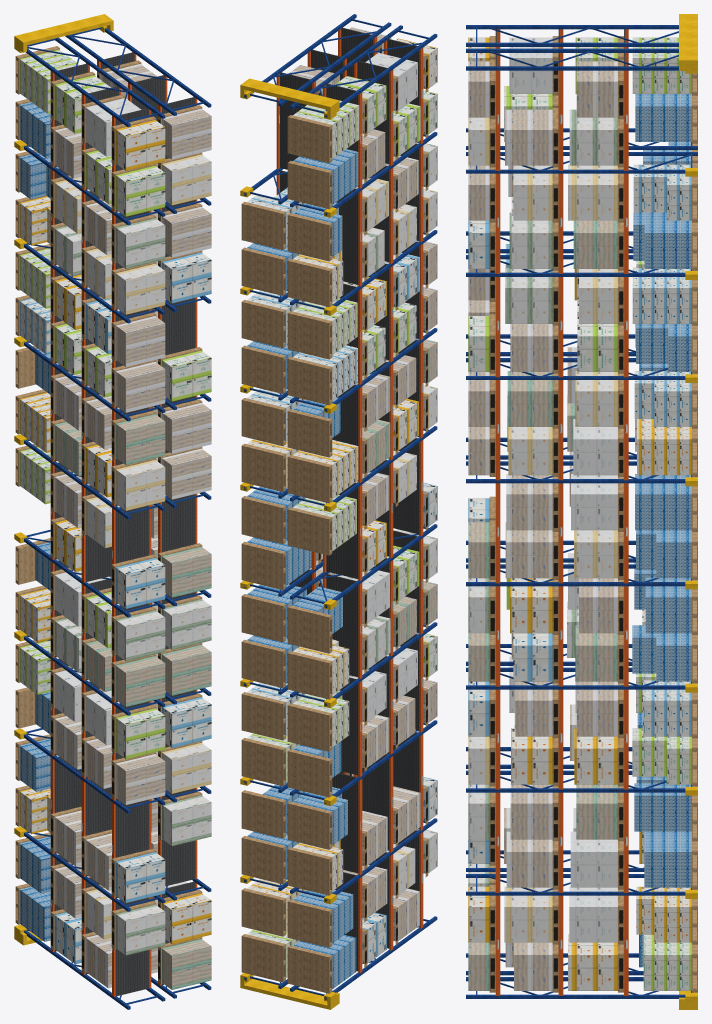
Rendered from racks_e5_s.gltf.
The picture shows the model from 3 angles, left to right: view 1: azimuth 30°, elevation 25°; view 2: azimuth 150°, elevation 25°; view 3: azimuth 270°, elevation 25°; orthographic projection. The views are drawn at different scales.
Parts seen in each view (by area): view 1: racks_e5_s; view 2: racks_e5_s; view 3: racks_e5_s.
Boxes of the visible parts, x1,y1,x2,y2 form: racks_e5_s: (14,14,211,1009); racks_e5_s: (240,14,437,1009); racks_e5_s: (466,14,697,1009).
Size of the model in its own units: 2.6 by 24.86 by 5.5.
Materials: 18 (18 with a texture image).
